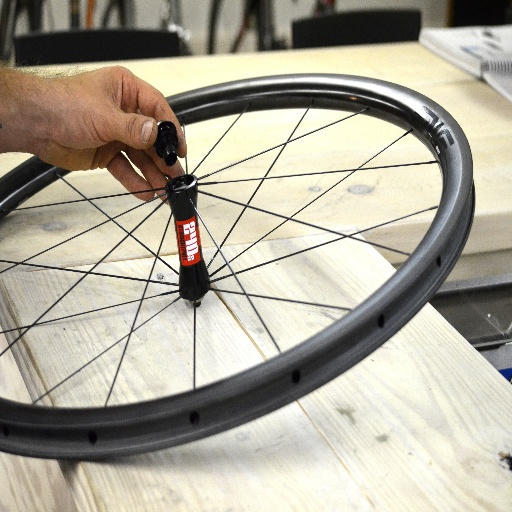hand: (30, 59, 170, 207)
